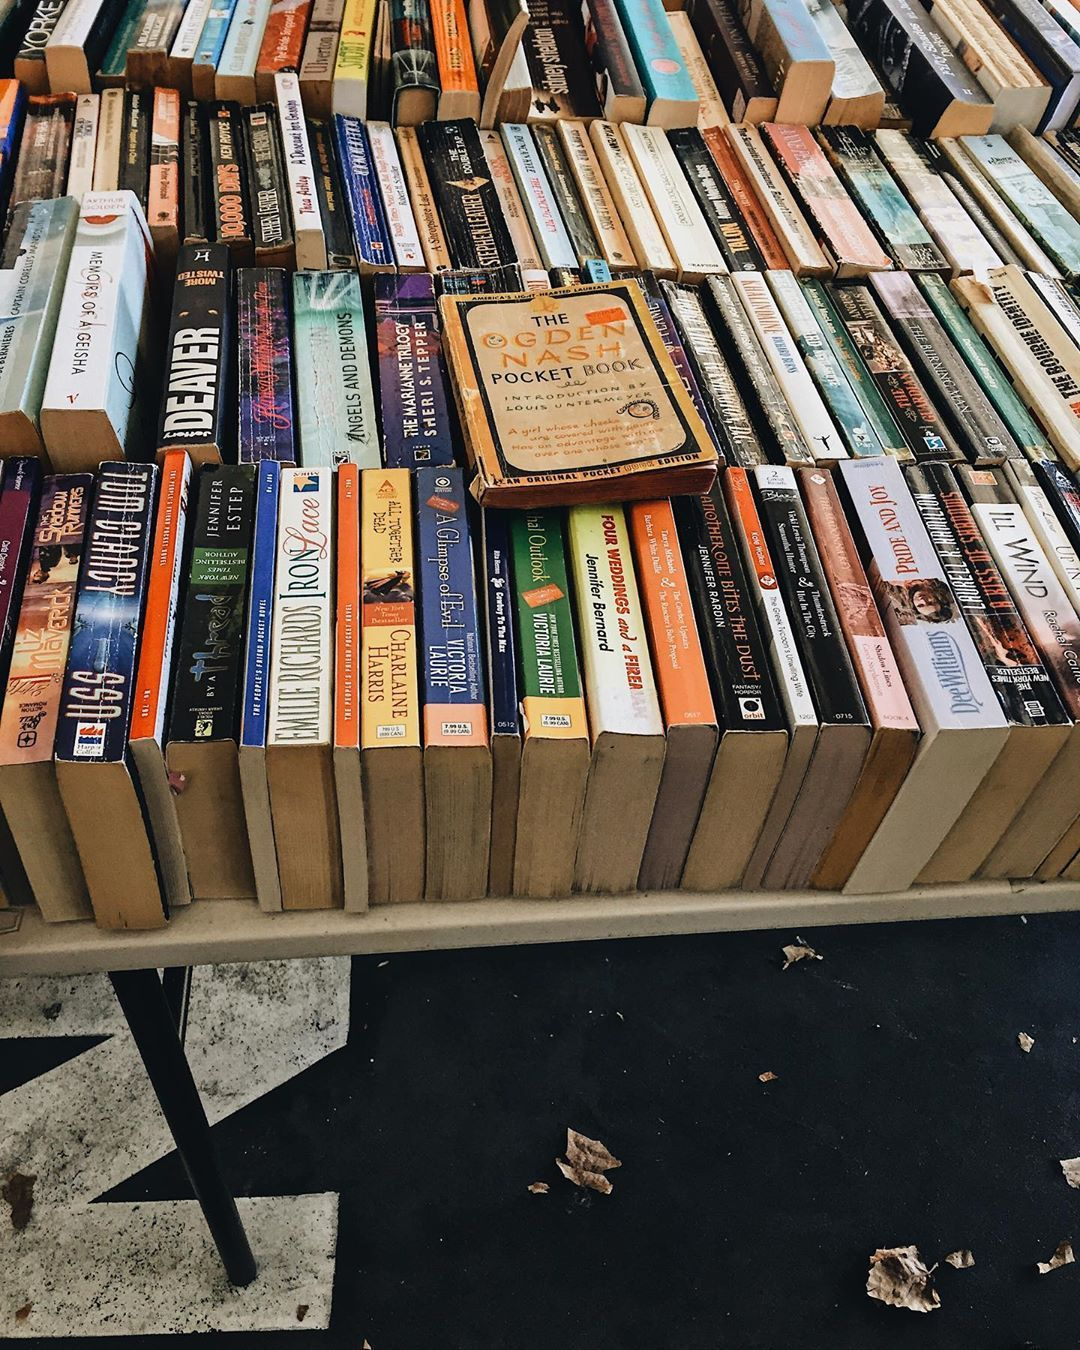buku: (1, 1, 1080, 886), (438, 277, 730, 514)
